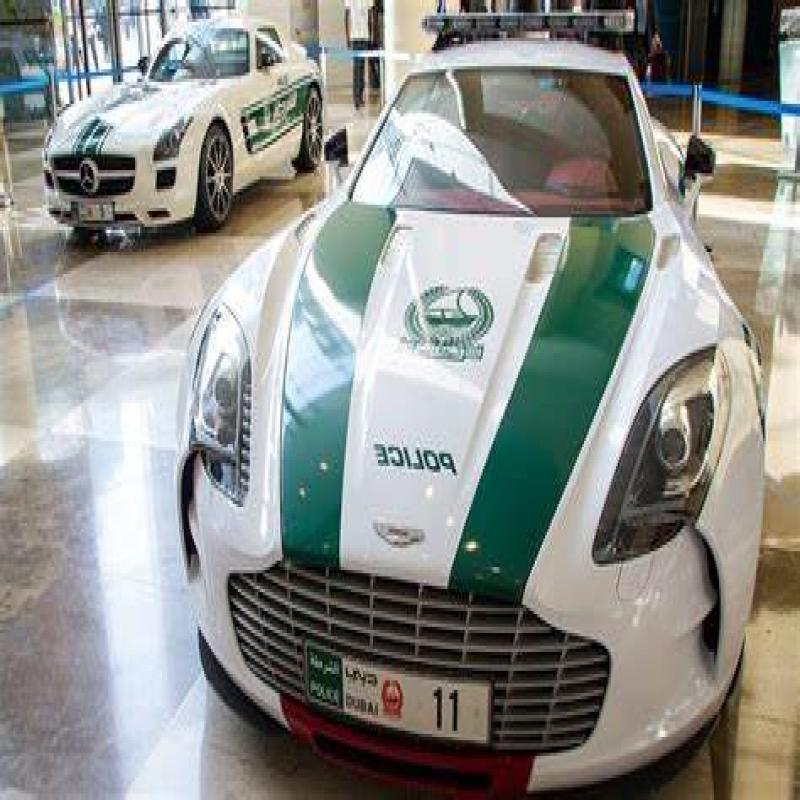AmbulanceSiren: (419, 0, 659, 54)
car: (228, 93, 746, 761)
